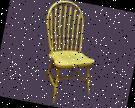Silla: (31, 0, 109, 107)
